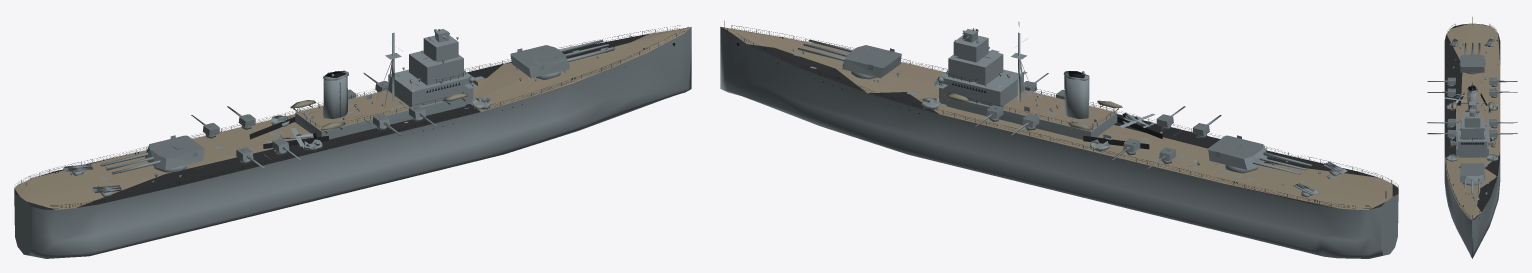
File: deutschland_lod.glb
3 renders of one model, left to right at view 1: azimuth 30°, elevation 25°; view 2: azimuth 150°, elevation 25°; view 3: azimuth 270°, elevation 25°, orthographic. The views are drawn at different scales.
Visible parts, largest first — view 1: deutschland_lod; view 2: deutschland_lod; view 3: deutschland_lod.
Part boxes in pixels (x1=…): deutschland_lod: x1=14, y1=25, x2=691, y2=258; deutschland_lod: x1=720, y1=21, x2=1398, y2=258; deutschland_lod: x1=1427, y1=17, x2=1517, y2=258.
Bounding box in the file's own units: 186 × 38 × 35.2.
